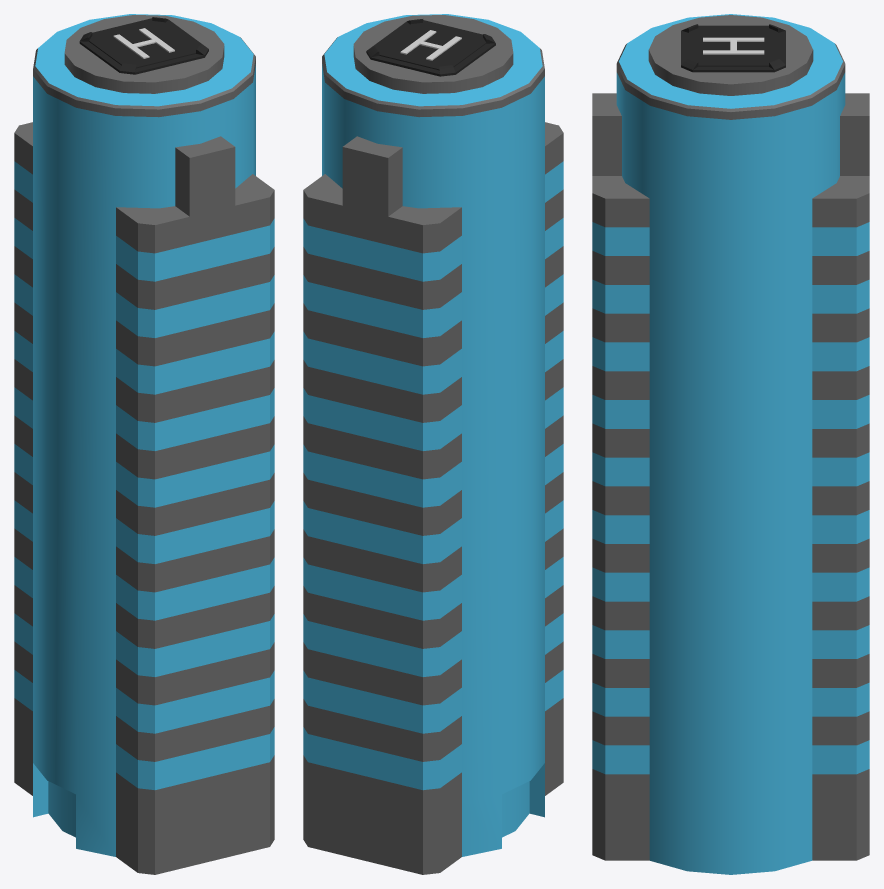
Rendered from Skyscraper_06.fbx.
3 views of the same model, side by side, from view 1: azimuth 30°, elevation 25°; view 2: azimuth 150°, elevation 25°; view 3: azimuth 270°, elevation 25° (orthographic).
Visible parts, largest first — view 1: Skyscraper_06; view 2: Skyscraper_06; view 3: Skyscraper_06.
Part boxes in pixels (x1,y1,x2,y2): Skyscraper_06: (14, 14, 274, 874); Skyscraper_06: (303, 14, 563, 874); Skyscraper_06: (592, 14, 869, 874).
Bounding box in the file's own units: 34.68 × 131 × 42.04.
